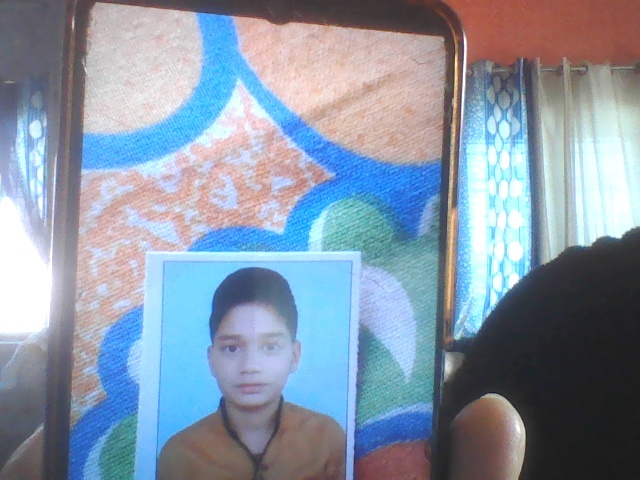fake: (194, 248, 322, 429)
